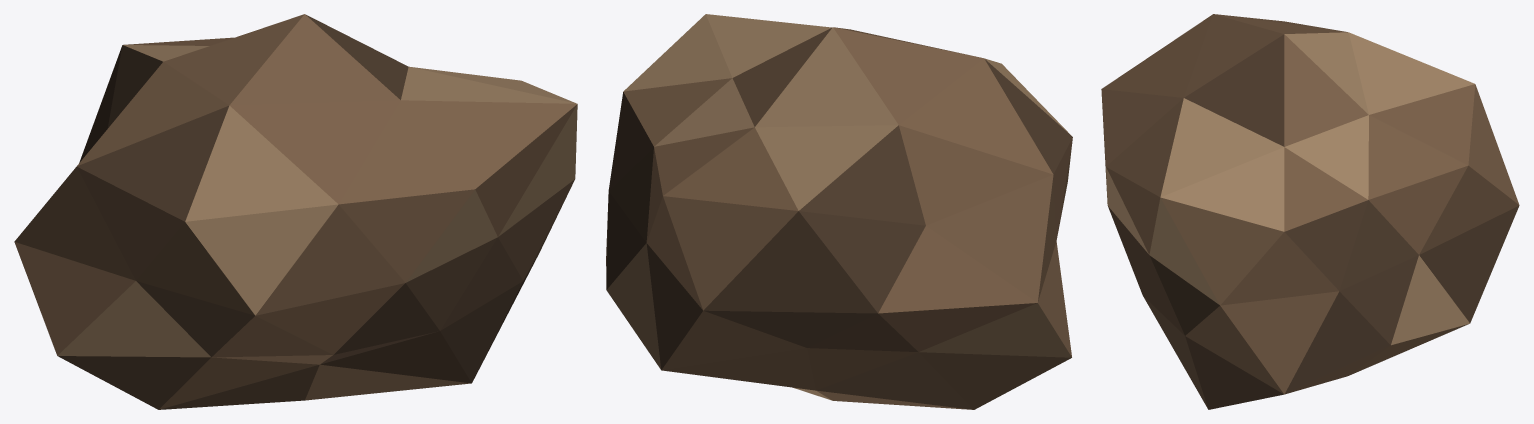
The model's file is asteroide-1.glb.
The picture shows the model from 3 angles, left to right: view 1: azimuth 30°, elevation 25°; view 2: azimuth 150°, elevation 25°; view 3: azimuth 270°, elevation 25°; orthographic projection. The views are drawn at different scales.
Parts seen in each view (by area): view 1: asteroide-1; view 2: asteroide-1; view 3: asteroide-1.
Boxes of the visible parts, bbox=[...] form: asteroide-1: bbox=[14, 14, 577, 409]; asteroide-1: bbox=[606, 14, 1072, 409]; asteroide-1: bbox=[1101, 14, 1519, 409].
Size of the model in its own units: 8.42 by 6.4 by 7.15.
